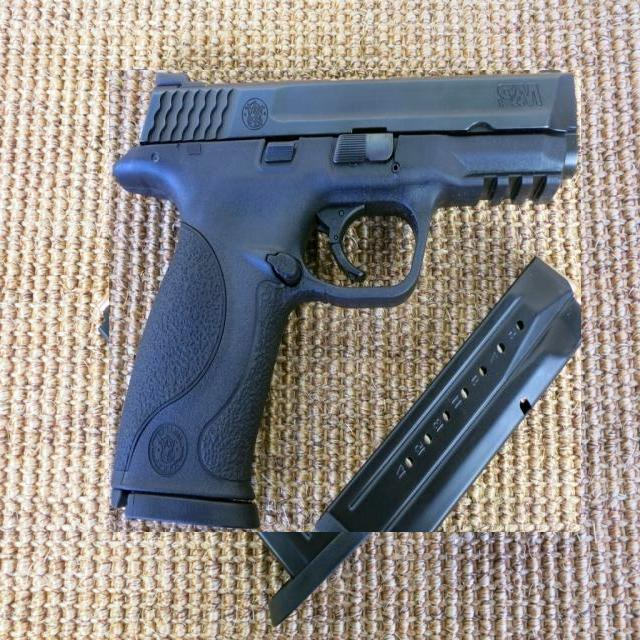Gun: (109, 70, 581, 532)
